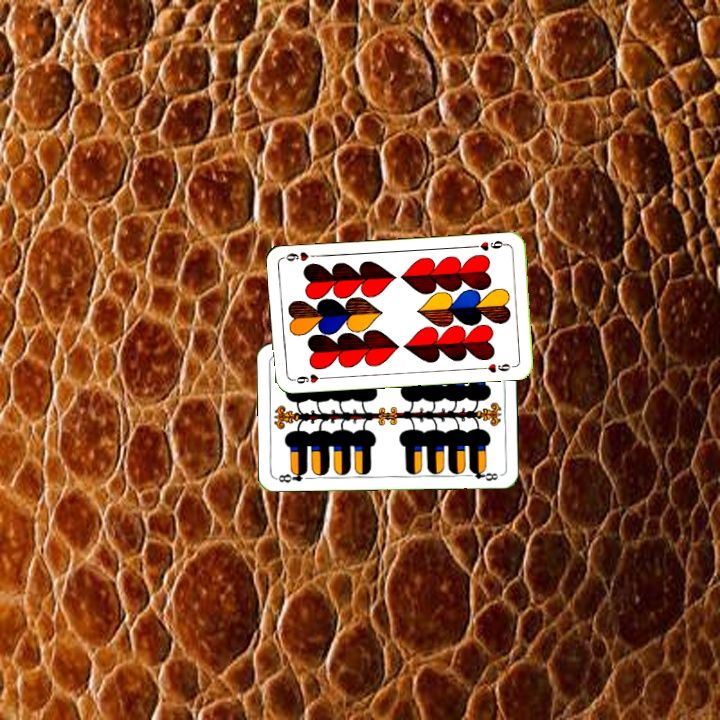E8: (273, 467, 310, 485)
H9: (469, 236, 510, 253), (288, 370, 329, 386)
